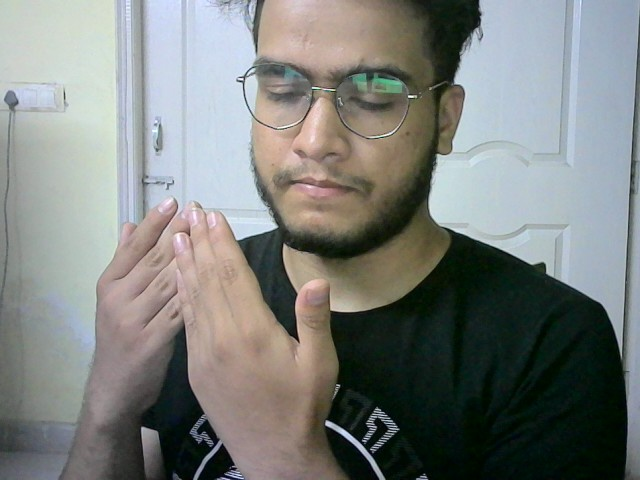Thank You: (80, 195, 349, 446)
